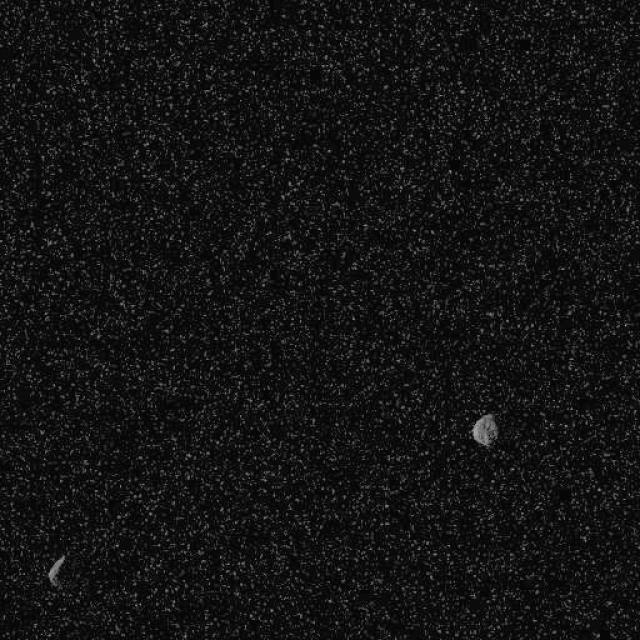D2: (470, 412, 499, 448), (46, 554, 66, 586)
